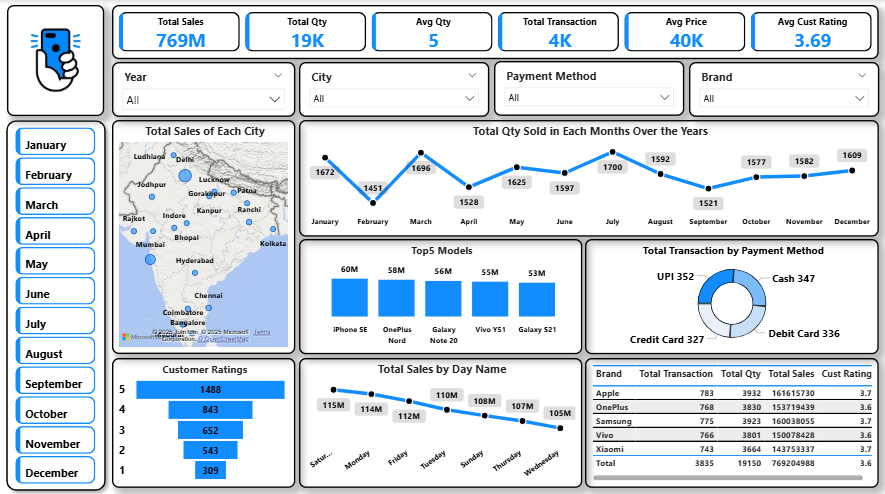

The page's visual inventory and layout, read from the dashboard file:
{"tool":"powerbi","page":{"name":"Mobile Sales Data Dashboard","canvas":[1280,720],"ordinal":0},"visuals":[{"type":"shape","box":[0,164.2,161.3,551.5],"z":0},{"type":"advancedSlicerVisual","fields":{"Values":["Sales_Data.Date.Variation.Date Hierarchy.Month"]},"box":[17.3,178.6,125.3,524.2],"z":1000},{"type":"cardVisual","fields":{"Data":["Sales_Data.Total Sales","Sales_Data.Total Qty","Sales_Data.Avg Qty","Sales_Data.Total Transaction","Sales_Data.Avg Price","Sales_Data.Avg Ratings"]},"box":[161.3,7.2,1104.5,77.8],"z":2000},{"type":"map","title":"Total Sales of Each City","fields":{"Category":["Sales_Data.City"],"Size":["Sales_Data.Total Sales"]},"box":[161.3,172.8,263.5,337],"z":3000},{"type":"lineChart","title":"Total Qty Sold in Each Months Over the Years","fields":{"Category":["Sales_Data.Date.Variation.Date Hierarchy.Month","Sales_Data.Date.Variation.Date Hierarchy.Day"],"Y":["Sum(Sales_Data.Units Sold)"]},"box":[430.6,172.8,835.2,168.5],"z":4000},{"type":"slicer","fields":{"Values":["Sales_Data.Date.Variation.Date Hierarchy.Year"]},"box":[161.3,89.3,263.5,79.2],"z":5000},{"type":"slicer","fields":{"Values":["Sales_Data.City"]},"box":[430.6,89.3,273.6,79.2],"z":6000},{"type":"slicer","fields":{"Values":["Sales_Data.Payment Method"]},"box":[711.4,87.8,273.6,79.2],"z":7000},{"type":"slicer","fields":{"Values":["Sales_Data.Brand"]},"box":[992.2,89.3,273.6,79.2],"z":8000},{"type":"clusteredColumnChart","title":"Top5 Models","fields":{"Category":["Sales_Data.Mobile Model"],"Y":["Sales_Data.Total Sales"]},"box":[430.6,344.2,407.5,165.6],"z":9000},{"type":"donutChart","title":"Total Transaction by Payment Method","fields":{"Category":["Sales_Data.Payment Method"],"Y":["Sales_Data.Total Transaction"]},"box":[842.4,344.2,423.4,165.6],"z":10000},{"type":"funnel","title":"Customer Ratings","fields":{"Category":["Sales_Data.Customer Ratings"],"Y":["CountNonNull(Sales_Data.Customer Ratings)"]},"box":[161.3,515.5,263.5,187.2],"z":11000},{"type":"lineChart","fields":{"Category":["Sales_Data.Day Name"],"Y":["Sales_Data.Total Sales"]},"box":[431,516,408,187],"z":12000},{"type":"tableEx","fields":{"Values":["Sales_Data.Brand","Sales_Data.Total Transaction","Sales_Data.Total Qty","Sales_Data.Total Sales","Sales_Data.Avg Ratings"]},"box":[842.4,515.5,423.4,187.2],"z":13000},{"type":"image","box":[10.1,7.2,139.7,159.8],"z":14000}]}

Visuals, with their boxes in screenshot pixels (x1, y1, x2, y2), scaled from the page's 1280x720 canvas onto the 885x494 screenshot:
shape: bbox=(0, 113, 112, 491)
advancedSlicerVisual - Sales_Data.Date.Variation.Date Hierarchy.Month: bbox=(12, 123, 99, 482)
cardVisual - Sales_Data.Total Sales x Sales_Data.Total Qty: bbox=(112, 5, 875, 58)
"Total Sales of Each City" map: bbox=(112, 119, 294, 350)
"Total Qty Sold in Each Months Over the Years" lineChart: bbox=(298, 119, 875, 234)
slicer - Sales_Data.Date.Variation.Date Hierarchy.Year: bbox=(112, 61, 294, 116)
slicer - Sales_Data.City: bbox=(298, 61, 487, 116)
slicer - Sales_Data.Payment Method: bbox=(492, 60, 681, 115)
slicer - Sales_Data.Brand: bbox=(686, 61, 875, 116)
"Top5 Models" clusteredColumnChart: bbox=(298, 236, 579, 350)
"Total Transaction by Payment Method" donutChart: bbox=(582, 236, 875, 350)
"Customer Ratings" funnel: bbox=(112, 354, 294, 482)
lineChart - Sales_Data.Day Name x Sales_Data.Total Sales: bbox=(298, 354, 580, 482)
tableEx - Sales_Data.Brand x Sales_Data.Total Transaction: bbox=(582, 354, 875, 482)
image: bbox=(7, 5, 104, 115)
